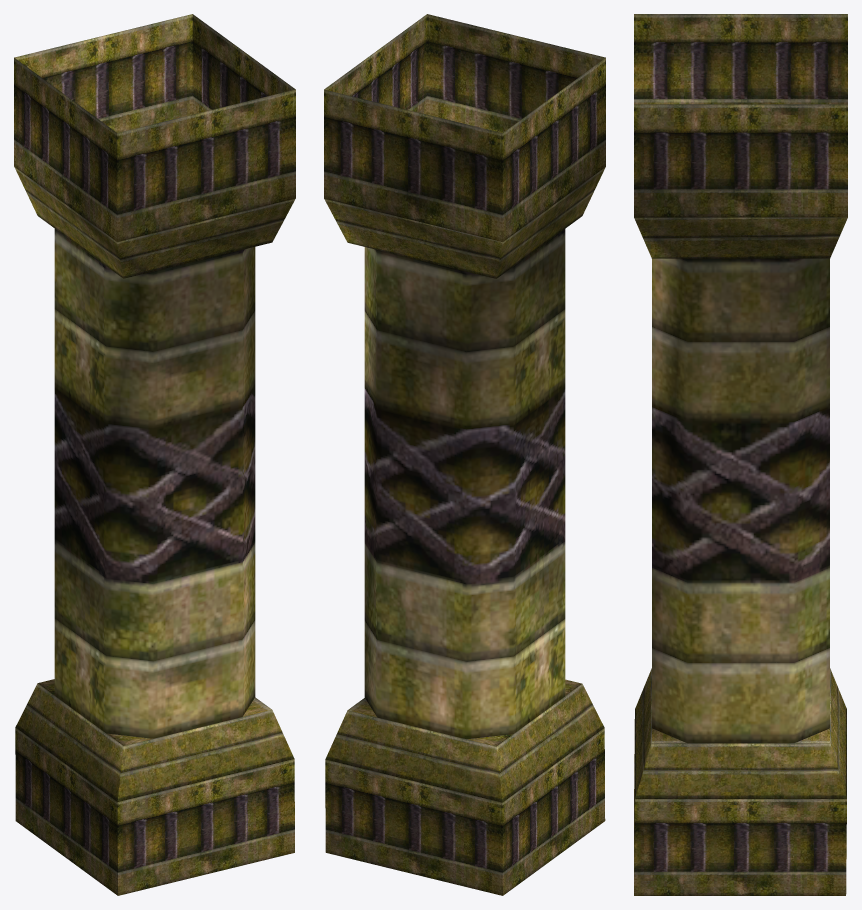
File: OVERHILL_A_01_OBJECT290.fbx
3 views of the same model, side by side, from view 1: azimuth 30°, elevation 25°; view 2: azimuth 150°, elevation 25°; view 3: azimuth 270°, elevation 25° (orthographic). The views are drawn at different scales.
Visible parts, largest first — view 1: OVERHILL_A_01_OBJECT290; view 2: OVERHILL_A_01_OBJECT290; view 3: OVERHILL_A_01_OBJECT290.
Part boxes in pixels (x1,y1,x2,y2): OVERHILL_A_01_OBJECT290: [14, 14, 295, 895]; OVERHILL_A_01_OBJECT290: [324, 14, 605, 895]; OVERHILL_A_01_OBJECT290: [634, 14, 847, 895].
Size of the model in its own units: 18045 by 73684 by 18045.
4 materials, 4 textured.
